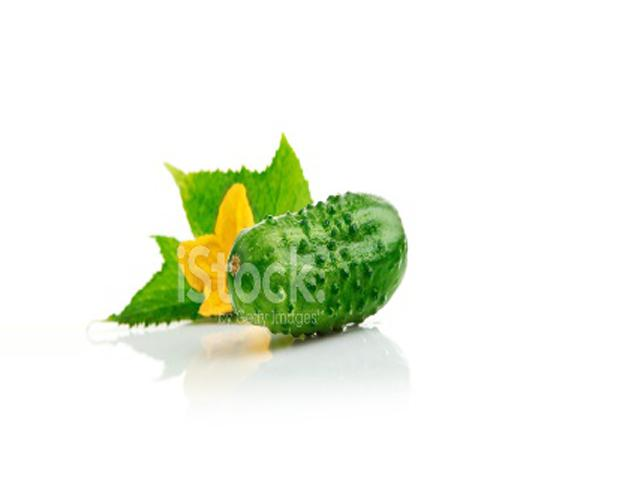cucumber: (229, 192, 408, 335)
